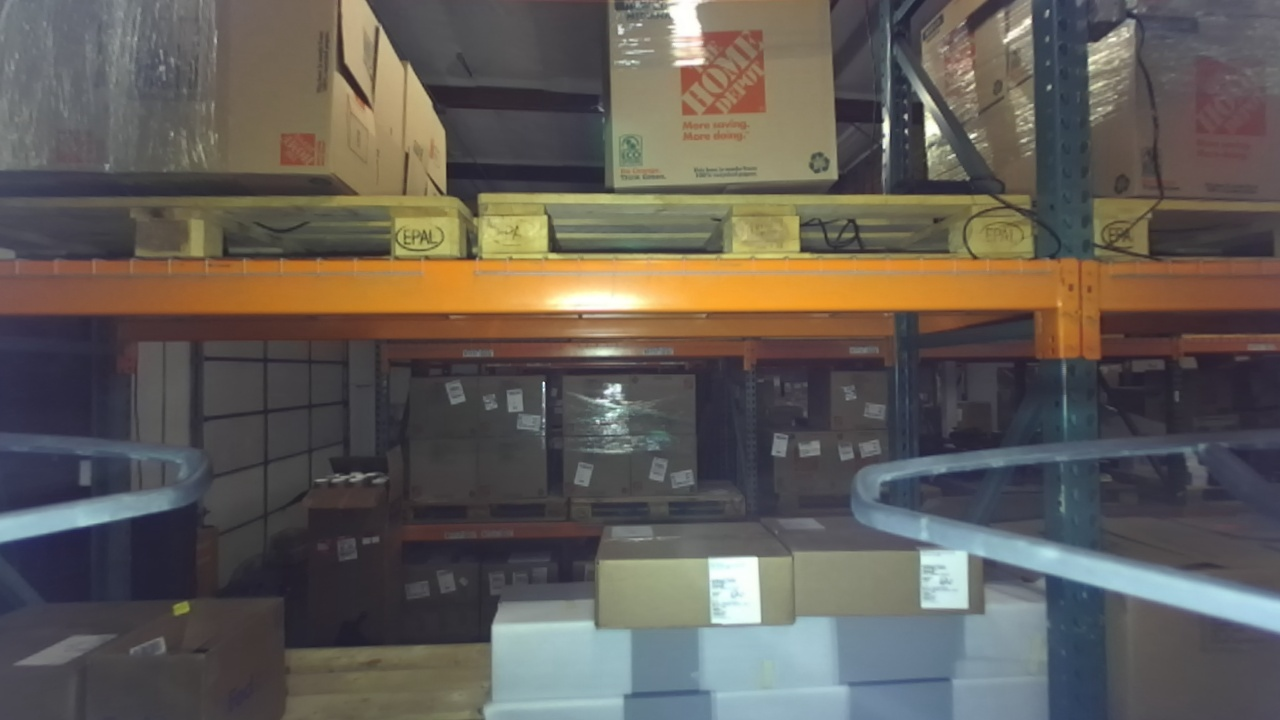box: (125, 3, 392, 200), (598, 1, 842, 194), (1098, 5, 1280, 205), (768, 508, 1001, 624), (580, 520, 802, 638)
